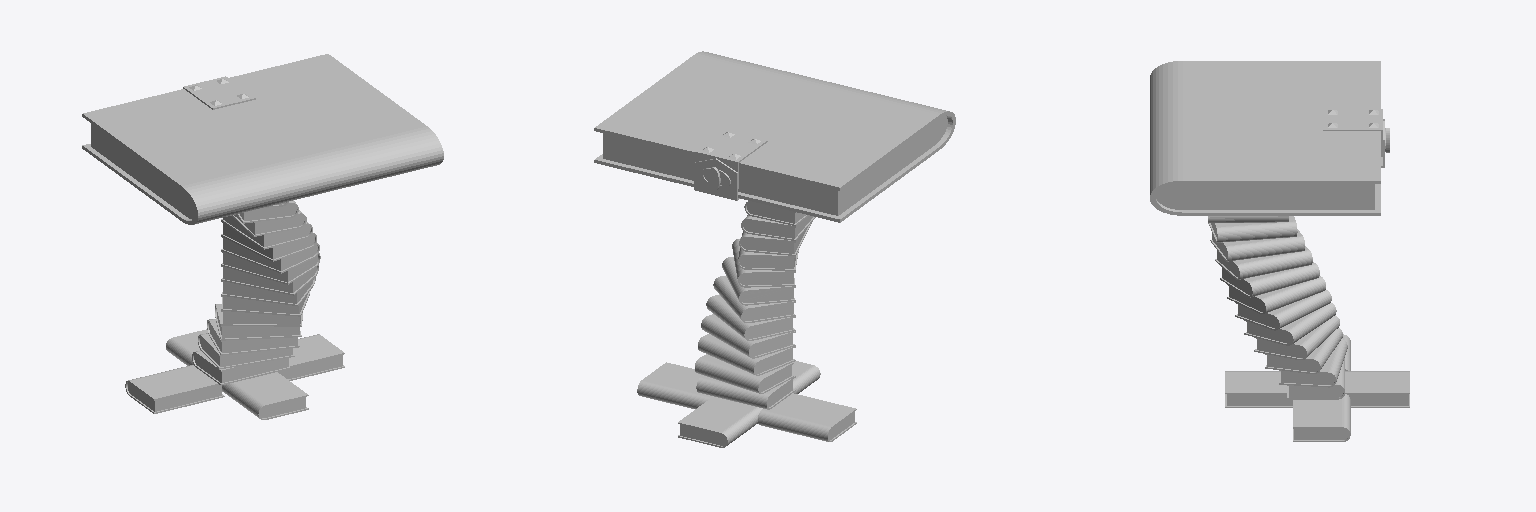
The model's file is wizard_table.obj.
3 renders of one model, left to right at view 1: azimuth 30°, elevation 25°; view 2: azimuth 150°, elevation 25°; view 3: azimuth 270°, elevation 25°, orthographic.
Visible parts, largest first — view 1: wizard_book_table_g_23396-Wood_Cherry_Original, wizard_book_table_g_23396-Color_000, wizard_book_table_g_23396-Color_A14, wizard_book_table_g_23396-Color_A01, wizard_book_table_g_23396-Metal_Rough, wizard_book_table_g_23396-Color_A17, wizard_book_table_g_23396-Color_A02; view 2: wizard_book_table_g_23396-Wood_Cherry_Original, wizard_book_table_g_23396-Color_000, wizard_book_table_g_23396-Color_A01, wizard_book_table_g_23396-Color_A02, wizard_book_table_g_23396-Color_A17, wizard_book_table_g_23396-Metal_Rough, wizard_book_table_g_23396-Color_B02, wizard_book_table_g_23396-Color_B01, wizard_book_table_g_23396-Color_B07, wizard_book_table_g_27010-Metal_Rough1, wizard_book_table_g_23396-Color_B16, wizard_book_table_g_23396-Color_B15 (+3 smaller); view 3: wizard_book_table_g_23396-Wood_Cherry_Original, wizard_book_table_g_23396-Color_000, wizard_book_table_g_23396-Color_A17, wizard_book_table_g_23396-Color_A02, wizard_book_table_g_23396-Color_A14, wizard_book_table_g_23396-Color_C21, wizard_book_table_g_23396-Color_C15, wizard_book_table_g_23396-Color_C13, wizard_book_table_g_23396-Metal_Rough, wizard_book_table_g_23396-Color_C07, wizard_book_table_g_23396-Color_C01, wizard_book_table_g_23396-Color_B20 (+5 smaller).
Part boxes in pixels (x1,y1,x2,y2): wizard_book_table_g_23396-Wood_Cherry_Original: (82,54,443,224); wizard_book_table_g_23396-Color_000: (91,123,342,417); wizard_book_table_g_23396-Color_A14: (222,372,308,419); wizard_book_table_g_23396-Color_A01: (125,365,224,413); wizard_book_table_g_23396-Metal_Rough: (183,76,255,109); wizard_book_table_g_23396-Color_A17: (288,334,344,380); wizard_book_table_g_23396-Color_A02: (166,329,207,365); wizard_book_table_g_23396-Wood_Cherry_Original: (594,51,955,222); wizard_book_table_g_23396-Color_000: (603,116,947,445); wizard_book_table_g_23396-Color_A01: (758,393,856,441); wizard_book_table_g_23396-Color_A02: (678,396,762,447); wizard_book_table_g_23396-Color_A17: (637,362,712,408); wizard_book_table_g_23396-Metal_Rough: (695,130,767,188); wizard_book_table_g_23396-Color_B02: (695,354,793,393); wizard_book_table_g_23396-Color_B01: (696,375,795,409); wizard_book_table_g_23396-Color_B07: (698,334,795,375); wizard_book_table_g_27010-Metal_Rough1: (694,158,739,200); wizard_book_table_g_23396-Color_B16: (701,314,795,358); wizard_book_table_g_23396-Color_B15: (706,294,795,340); wizard_book_table_g_23396-Wood_Cherry_Original: (1150,61,1380,215); wizard_book_table_g_23396-Color_000: (1156,184,1408,439); wizard_book_table_g_23396-Color_A17: (1293,394,1350,441); wizard_book_table_g_23396-Color_A02: (1345,371,1409,407); wizard_book_table_g_23396-Color_A14: (1225,371,1292,407); wizard_book_table_g_23396-Color_C21: (1209,216,1297,242); wizard_book_table_g_23396-Color_C15: (1210,229,1304,261); wizard_book_table_g_23396-Color_C13: (1215,246,1312,279); wizard_book_table_g_23396-Metal_Rough: (1323,109,1382,156); wizard_book_table_g_23396-Color_C07: (1220,262,1319,297); wizard_book_table_g_23396-Color_C01: (1227,276,1325,313); wizard_book_table_g_23396-Color_B20: (1235,290,1331,330).
Size of the model in its own units: 1.72 by 1.86 by 1.57.